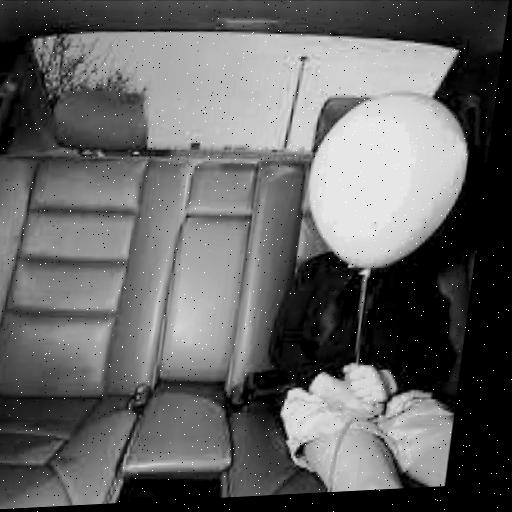balloon: (299, 75, 480, 268)
